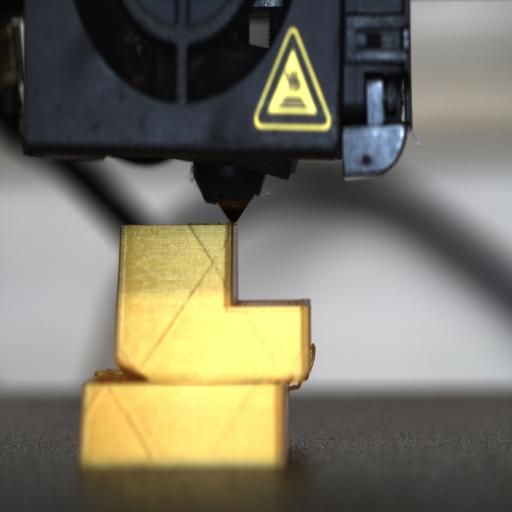layer_shift: (77, 366, 313, 392)
